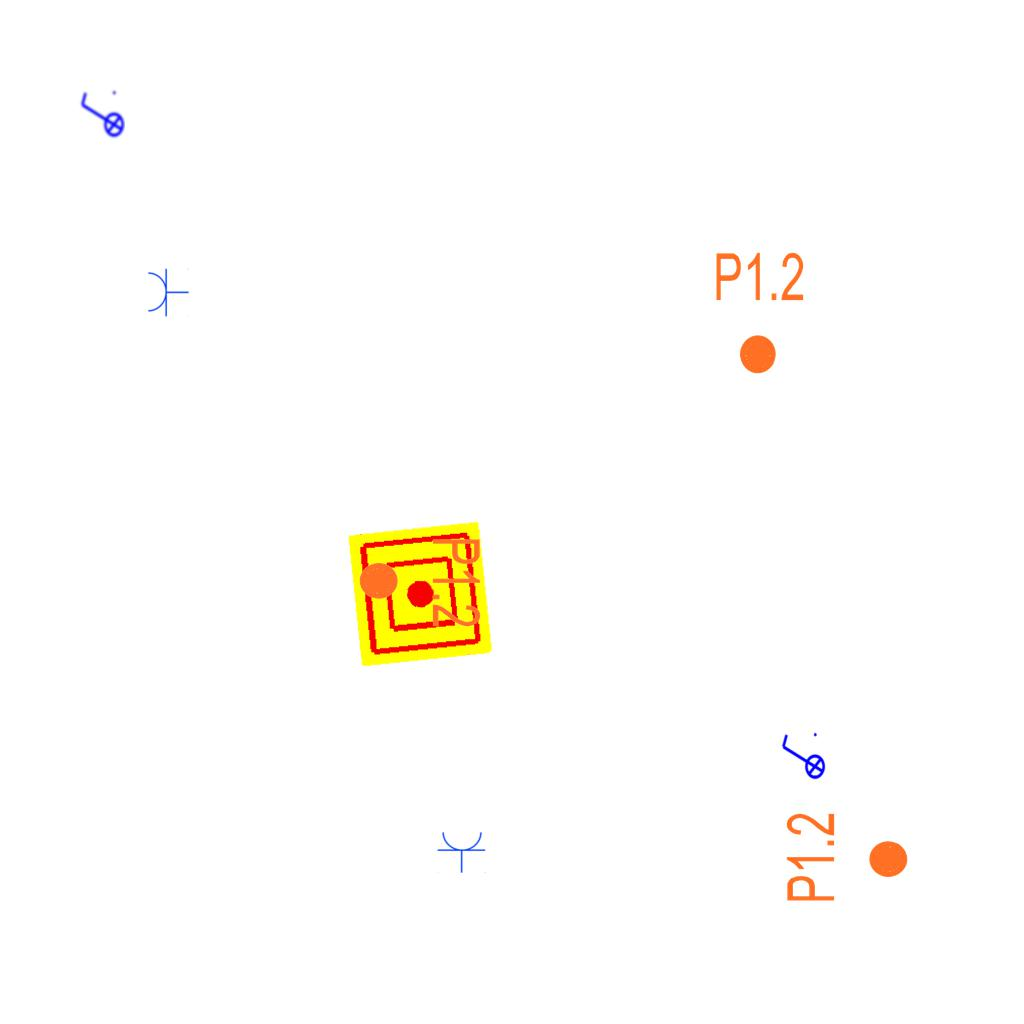Ausschalter_beleuchtet: (778, 730, 826, 786), (77, 88, 125, 144)
Downlight_LED_Einbauleuchten_Flur: (783, 811, 911, 904), (713, 249, 806, 377), (356, 536, 484, 629)
NAM-Nichtautomatischer_Melder: (347, 521, 493, 667)
Schukosteckdose_einfach: (146, 267, 189, 317), (437, 830, 487, 873)
